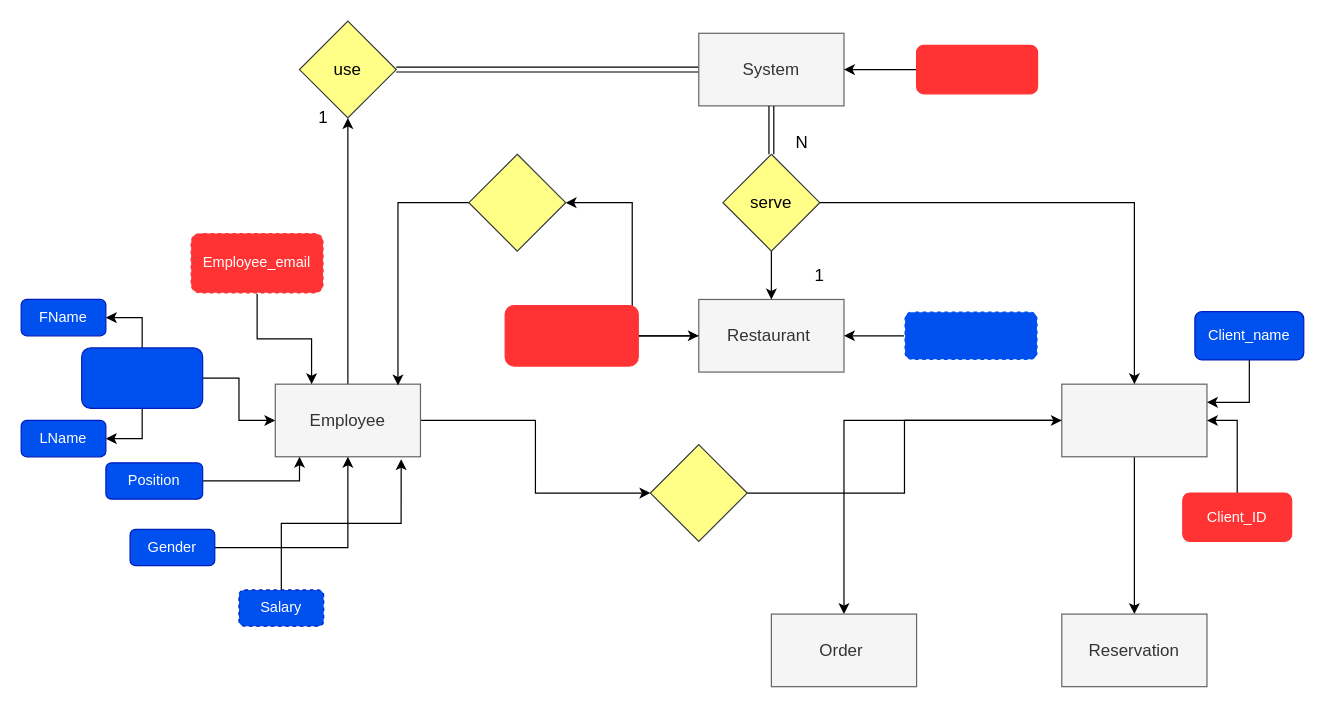
Some shapes in this 1325 by 708 pixel diagram are drawn without their labels. Here are the shapes that lost their labels. From the top down, the box of each, then its label:
(915, 44, 1038, 94): System_name
(468, 153, 566, 251): work
(504, 304, 638, 366): Restaurant_name
(903, 310, 1038, 360): no_of_employees
(80, 347, 203, 408): Employee_name
(1061, 383, 1207, 457): Client
(649, 443, 747, 541): Help
